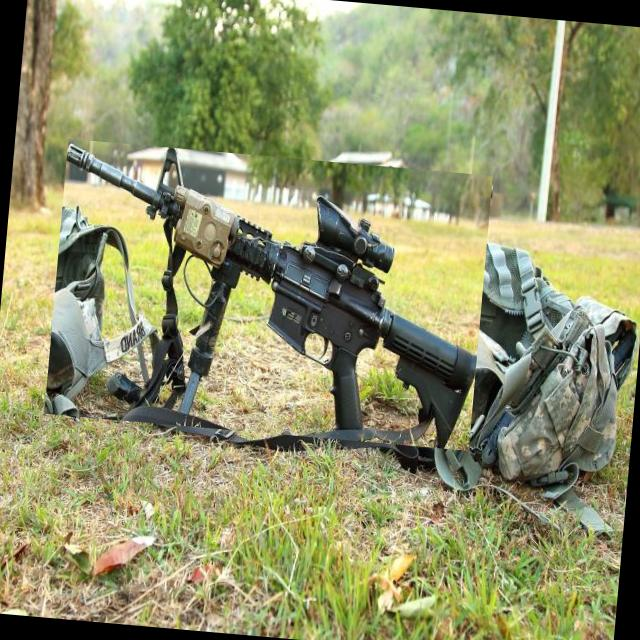Gun: (67, 144, 476, 448)
